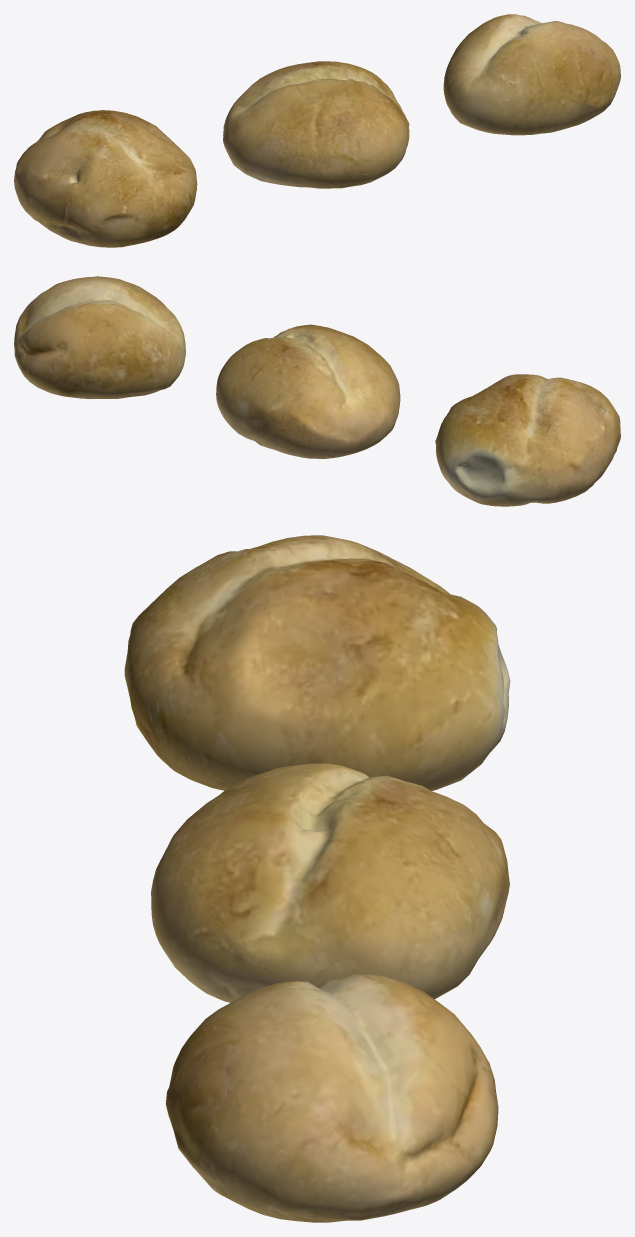
File: hamburger_buns.6bf86143.glb
3 views of the same model, one above another, from view 1: azimuth 30°, elevation 25°; view 2: azimuth 150°, elevation 25°; view 3: azimuth 270°, elevation 25° (orthographic). The views are drawn at different scales.
Parts seen in each view (by area): view 1: hamburger_buns_01, hamburger_buns_02, hamburger_buns_03; view 2: hamburger_buns_01, hamburger_buns_02, hamburger_buns_03; view 3: hamburger_buns_01, hamburger_buns_02, hamburger_buns_03.
Part boxes in pixels (<box>): hamburger_buns_01: <box>14,110,197,247</box>; hamburger_buns_02: <box>223,61,409,188</box>; hamburger_buns_03: <box>443,14,620,135</box>; hamburger_buns_01: <box>435,374,620,506</box>; hamburger_buns_02: <box>216,324,400,458</box>; hamburger_buns_03: <box>14,276,185,399</box>; hamburger_buns_01: <box>124,535,510,790</box>; hamburger_buns_02: <box>151,763,509,1002</box>; hamburger_buns_03: <box>165,974,498,1222</box>.
Size of the model in its own units: 0.95 by 0.1516 by 0.2722.
1 material, 1 textured.
